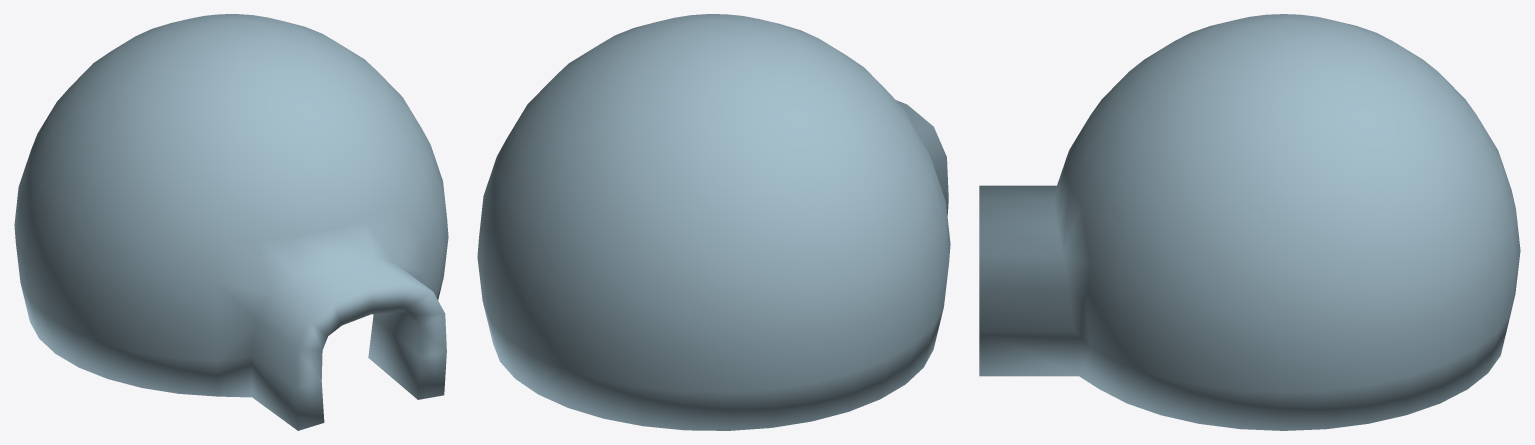
File: IgluProp.fbx
The picture shows the model from 3 angles, left to right: view 1: azimuth 30°, elevation 25°; view 2: azimuth 150°, elevation 25°; view 3: azimuth 270°, elevation 25°; orthographic projection. The views are drawn at different scales.
Parts seen in each view (by area): view 1: Iglú; view 2: Iglú; view 3: Iglú.
Part boxes in pixels (x1,y1,x2,y2): Iglú: (14, 14, 448, 430); Iglú: (477, 14, 950, 430); Iglú: (979, 14, 1520, 430).
Size of the model in its own units: 2 by 1.4 by 2.28.
